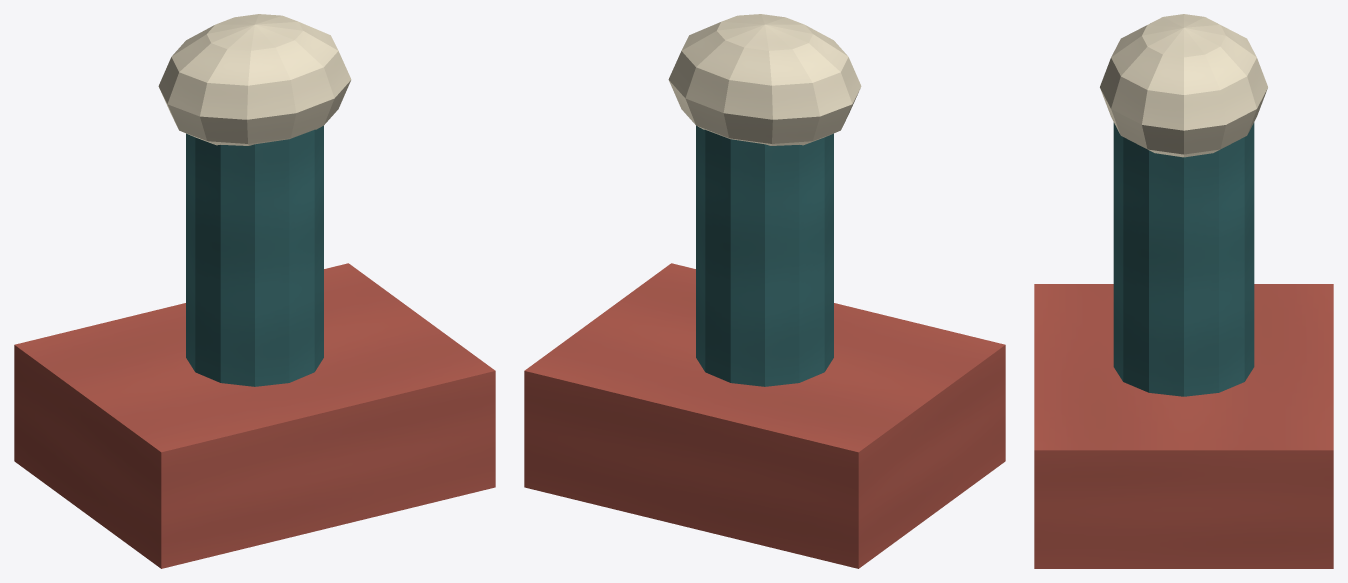
The model's file is atlas100-s032-a05.glb.
The picture shows the model from 3 angles, left to right: view 1: azimuth 30°, elevation 25°; view 2: azimuth 150°, elevation 25°; view 3: azimuth 270°, elevation 25°; orthographic projection.
Parts seen in each view (by area): view 1: atlas100-s032-a05:part-000, atlas100-s032-a05:part-001, atlas100-s032-a05:part-002; view 2: atlas100-s032-a05:part-000, atlas100-s032-a05:part-001, atlas100-s032-a05:part-002; view 3: atlas100-s032-a05:part-000, atlas100-s032-a05:part-001, atlas100-s032-a05:part-002.
Part boxes in pixels (x1=…): atlas100-s032-a05:part-000: x1=14, y1=263, x2=495, y2=568; atlas100-s032-a05:part-001: x1=186, y1=125, x2=323, y2=386; atlas100-s032-a05:part-002: x1=158, y1=14, x2=351, y2=145; atlas100-s032-a05:part-000: x1=524, y1=263, x2=1005, y2=568; atlas100-s032-a05:part-001: x1=696, y1=125, x2=833, y2=386; atlas100-s032-a05:part-002: x1=668, y1=14, x2=861, y2=145; atlas100-s032-a05:part-000: x1=1034, y1=284, x2=1333, y2=568; atlas100-s032-a05:part-001: x1=1113, y1=122, x2=1254, y2=396; atlas100-s032-a05:part-002: x1=1100, y1=14, x2=1267, y2=157.
Size of the model in its own units: 0.4586 by 0.5897 by 0.3494.
Materials: 3 (3 with a texture image).
